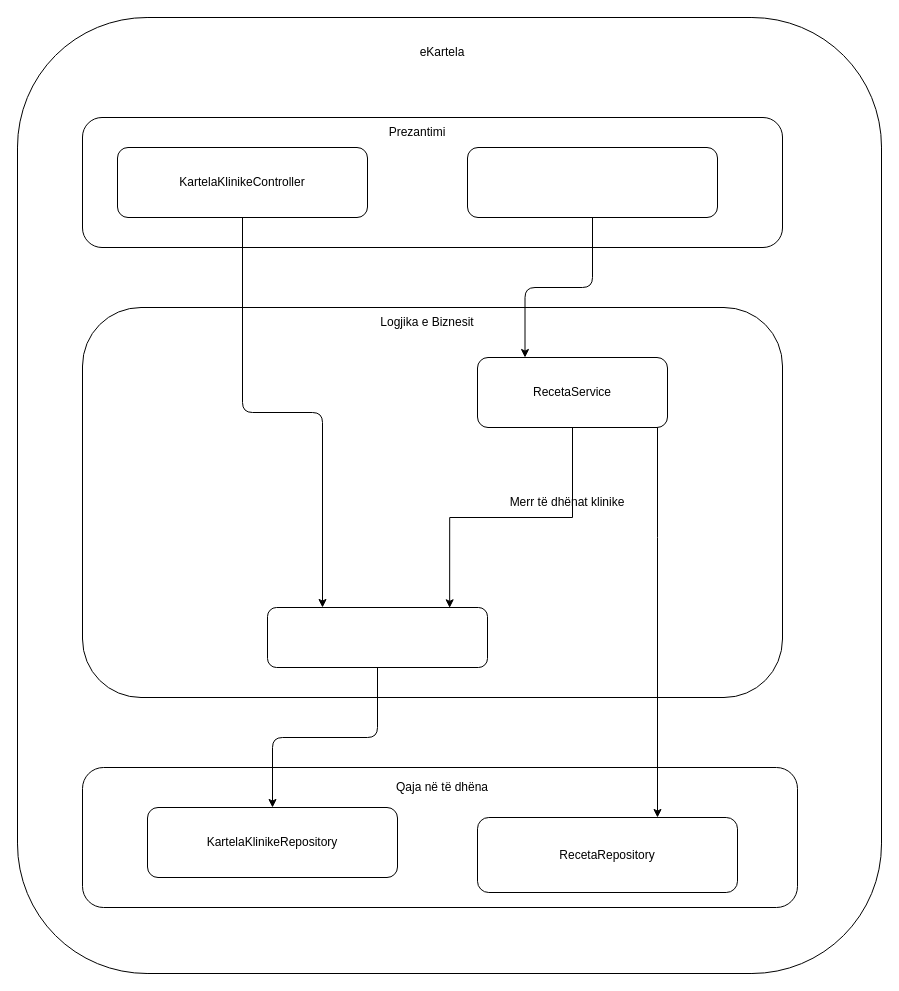
Image size: 899x991. Some labels were removed from this diagram. Each missing label, with the centre of its shape:
KartelaKlinikeService: [377,637]
RecetaController: [592,182]
